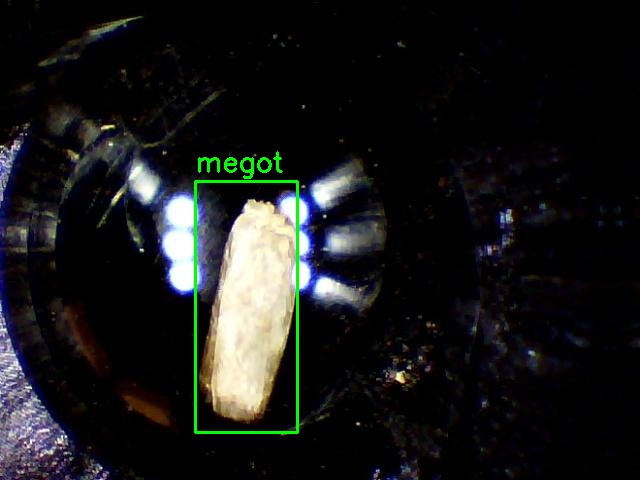megot: (195, 181, 297, 432)
